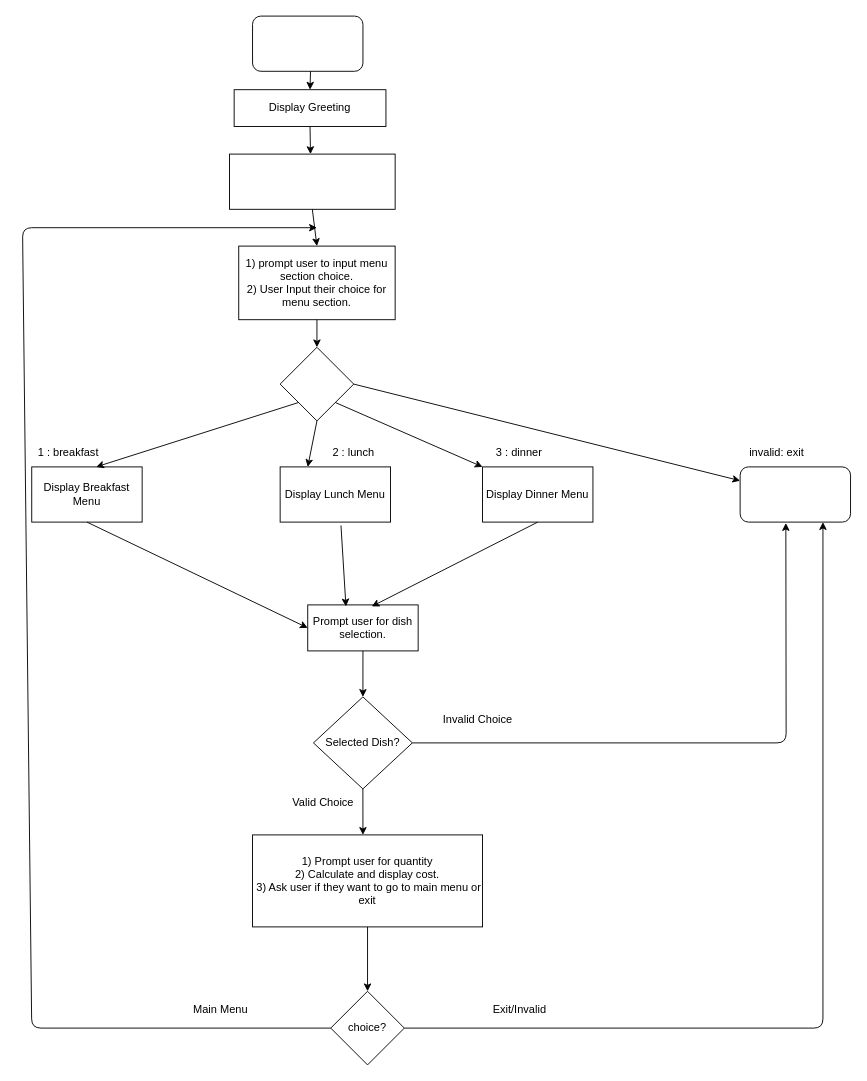
Some shapes in this 867 by 1081 pixel diagram are drawn without their labels. The centre of each missing label's shape, as x and y in pixels:
"choice" goes at (x=316, y=383).
"DIsplay Menu Sections" goes at (x=312, y=181).
"START" goes at (x=307, y=43).
"STOP/EXIT" goes at (x=795, y=494).
